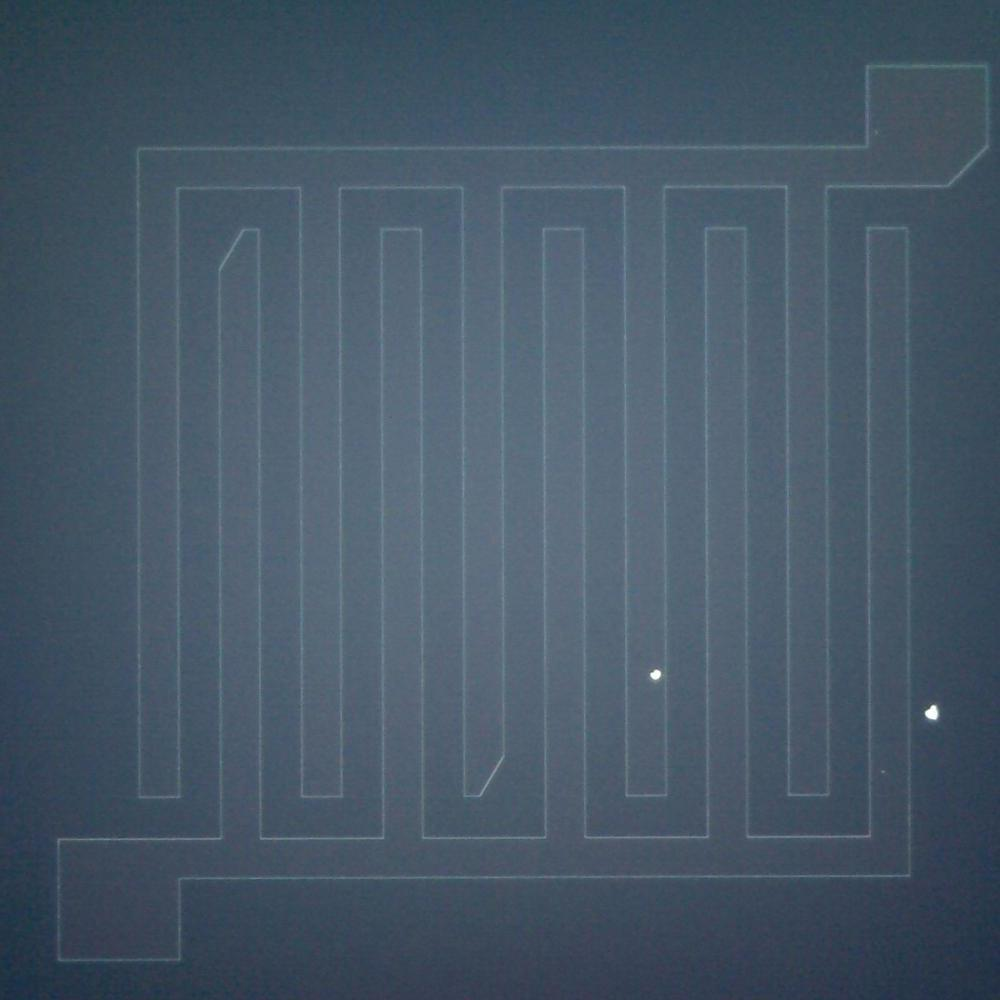edge circuit: (932, 134, 994, 196), (456, 740, 514, 806), (208, 216, 267, 280)
spot: (922, 700, 946, 727), (646, 666, 666, 686)
